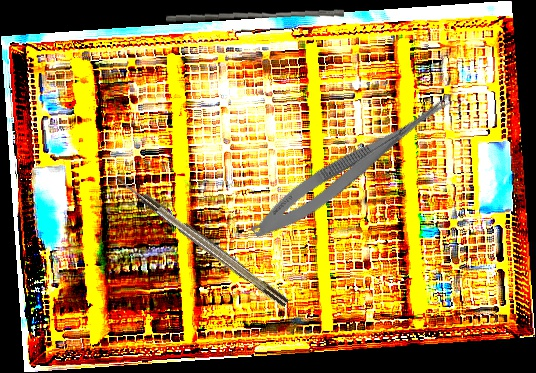Hook Surgical: (112, 171, 290, 310)
Micro Scissor: (246, 80, 459, 249)
Pusher: (165, 2, 345, 30)
